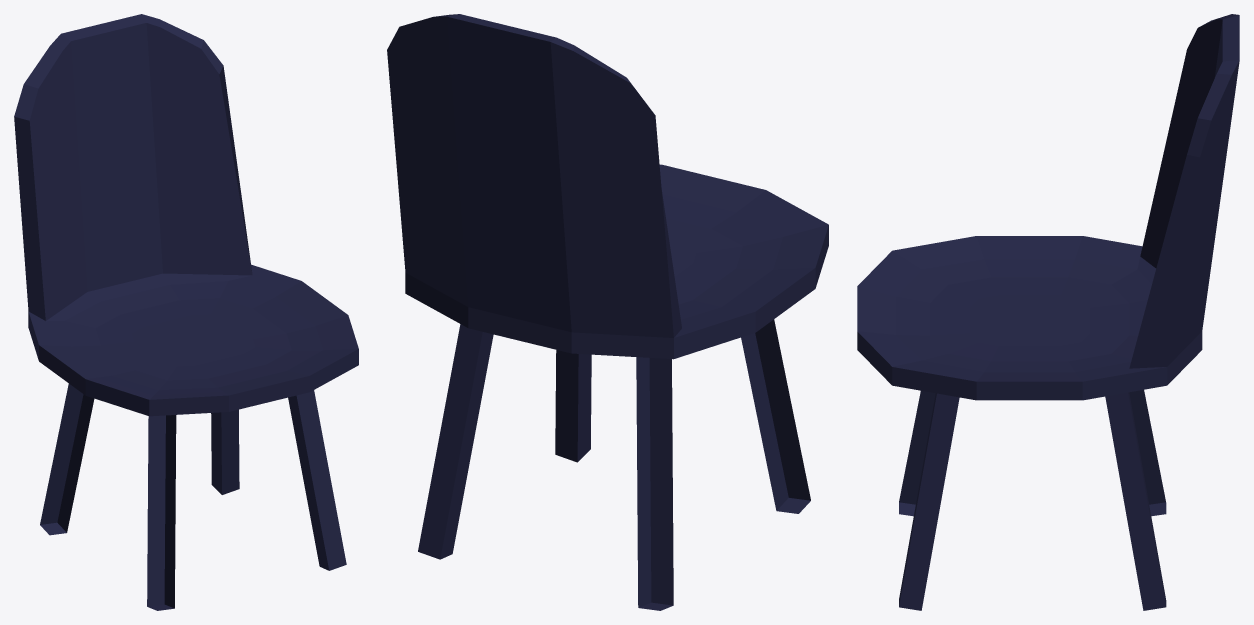
Rendered from chair.fbx.
3 views of the same model, side by side, from view 1: azimuth 30°, elevation 25°; view 2: azimuth 150°, elevation 25°; view 3: azimuth 270°, elevation 25° (orthographic). The views are drawn at different scales.
Visible parts, largest first — view 1: Cube; view 2: Cube; view 3: Cube.
Boxes of the visible parts, bbox=[...] form: Cube: bbox=[14, 14, 358, 610]; Cube: bbox=[387, 14, 828, 610]; Cube: bbox=[857, 14, 1239, 610].
Size of the model in its own units: 51.08 by 85.36 by 56.63.
